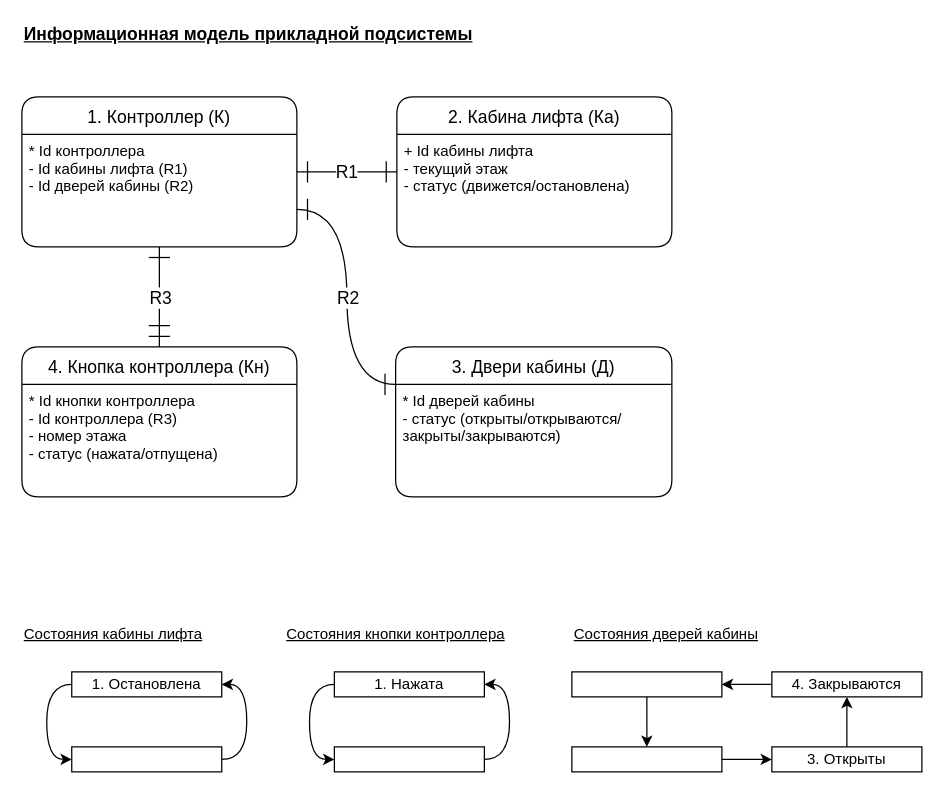
Some shapes in this 944 by 794 pixel diagram are drawn without their labels. The centre of each missing label's shape, as x and y in pixels:
"1. Закрыты" goes at point (646, 684).
"2. Движется" goes at point (146, 759).
"2. Открываются" goes at point (646, 759).
"2. Отпущена" goes at point (408, 759).
